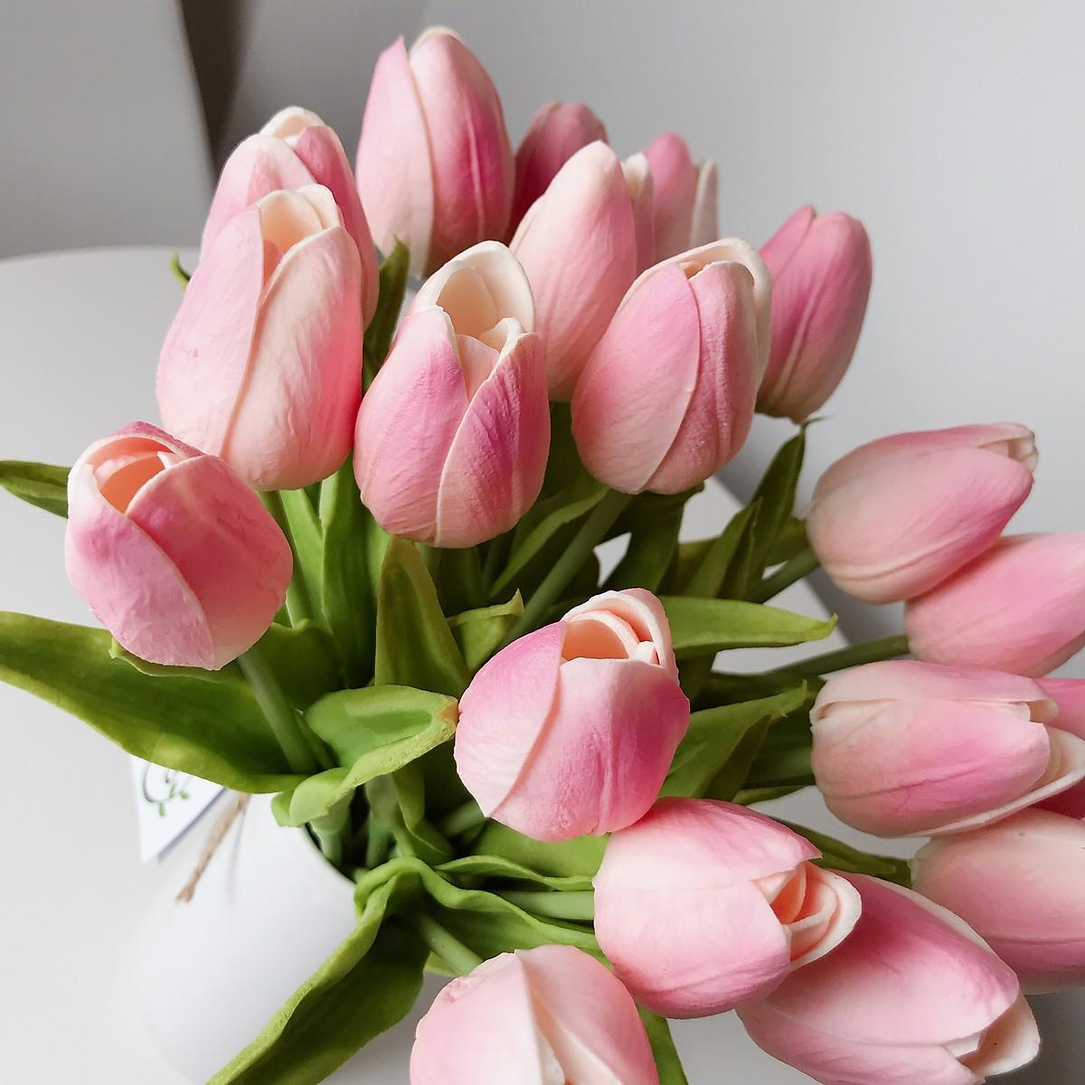tulip: (5, 24, 1081, 1081)
